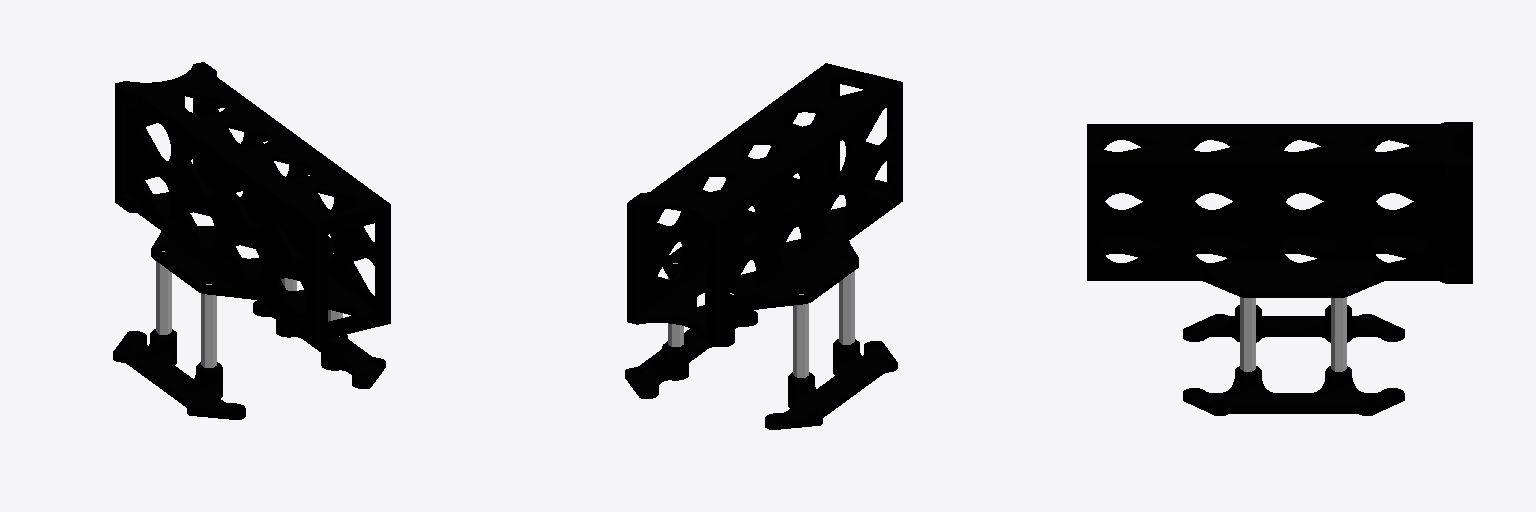
The model's file is f330_battery_holder.obj.
3 renders of one model, left to right at view 1: azimuth 30°, elevation 25°; view 2: azimuth 150°, elevation 25°; view 3: azimuth 270°, elevation 25°, orthographic.
Visible parts, largest first — view 1: obj1; view 2: obj1; view 3: obj1.
Part boxes in pixels (bbox=[...]): obj1: bbox=[113, 62, 390, 419]; obj1: bbox=[625, 63, 902, 429]; obj1: bbox=[1087, 122, 1472, 415].
Bounding box in the file's own units: 0.0835 × 0.0918 × 0.1427.